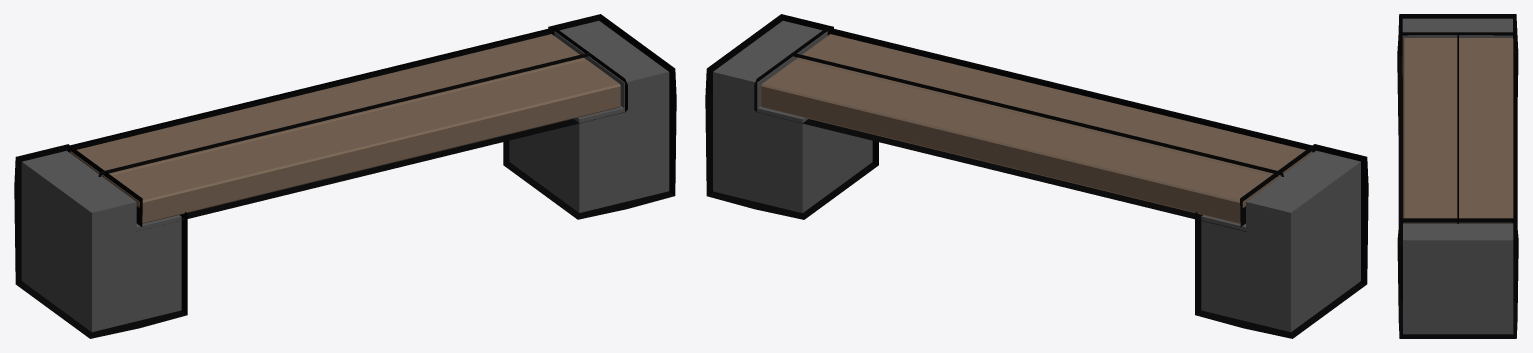
The model's file is furniture_3.glb.
The picture shows the model from 3 angles, left to right: view 1: azimuth 30°, elevation 25°; view 2: azimuth 150°, elevation 25°; view 3: azimuth 270°, elevation 25°; orthographic projection. The views are drawn at different scales.
Parts seen in each view (by area): view 1: Long bench; view 2: Long bench; view 3: Long bench.
Part boxes in pixels (<box>): Long bench: <box>14,14,676,338</box>; Long bench: <box>705,14,1368,338</box>; Long bench: <box>1397,14,1518,338</box>.
Size of the model in its own units: 3.14 by 0.6568 by 0.7161.
